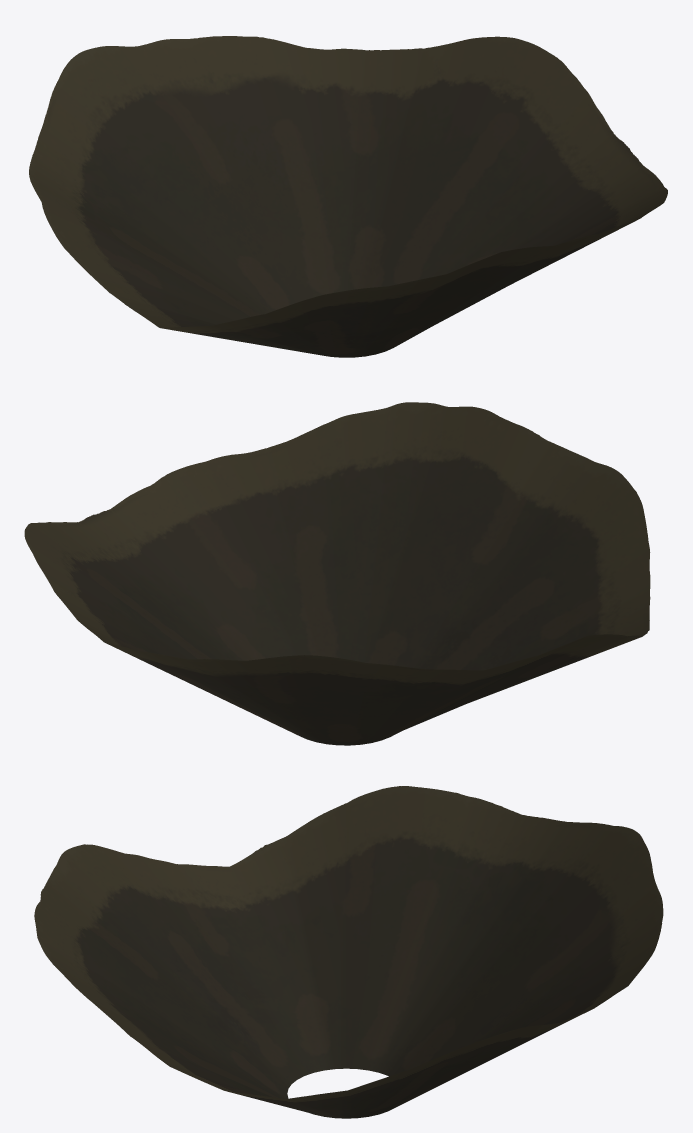
The model's file is Sunken Tomb Wall Coral.fbx.
3 renders of one model, top to bottom at view 1: azimuth 30°, elevation 25°; view 2: azimuth 150°, elevation 25°; view 3: azimuth 270°, elevation 25°, orthographic.
Visible parts, largest first — view 1: Wall Coral; view 2: Wall Coral; view 3: Wall Coral.
Boxes of the visible parts, bbox=[...] form: Wall Coral: bbox=[29, 36, 667, 357]; Wall Coral: bbox=[24, 402, 650, 745]; Wall Coral: bbox=[34, 786, 663, 1118].
Size of the model in its own units: 665 by 234 by 664.
